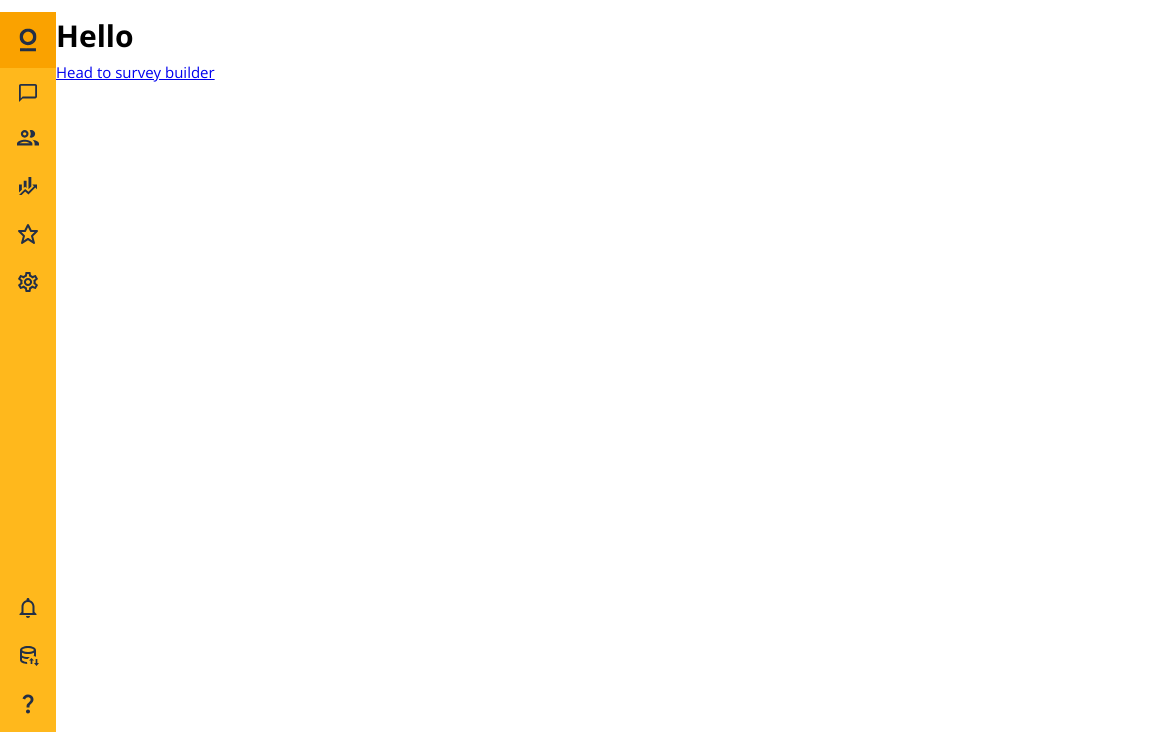
Home Page › selecting a row changes the background to yellow
The width and height of the screenshot is (1152, 732).
What coordinates should you click on to do the following:
click the link with id "linkToSurvey"
I would click on:
 (136, 72)
Its box is [56,60,215,84].
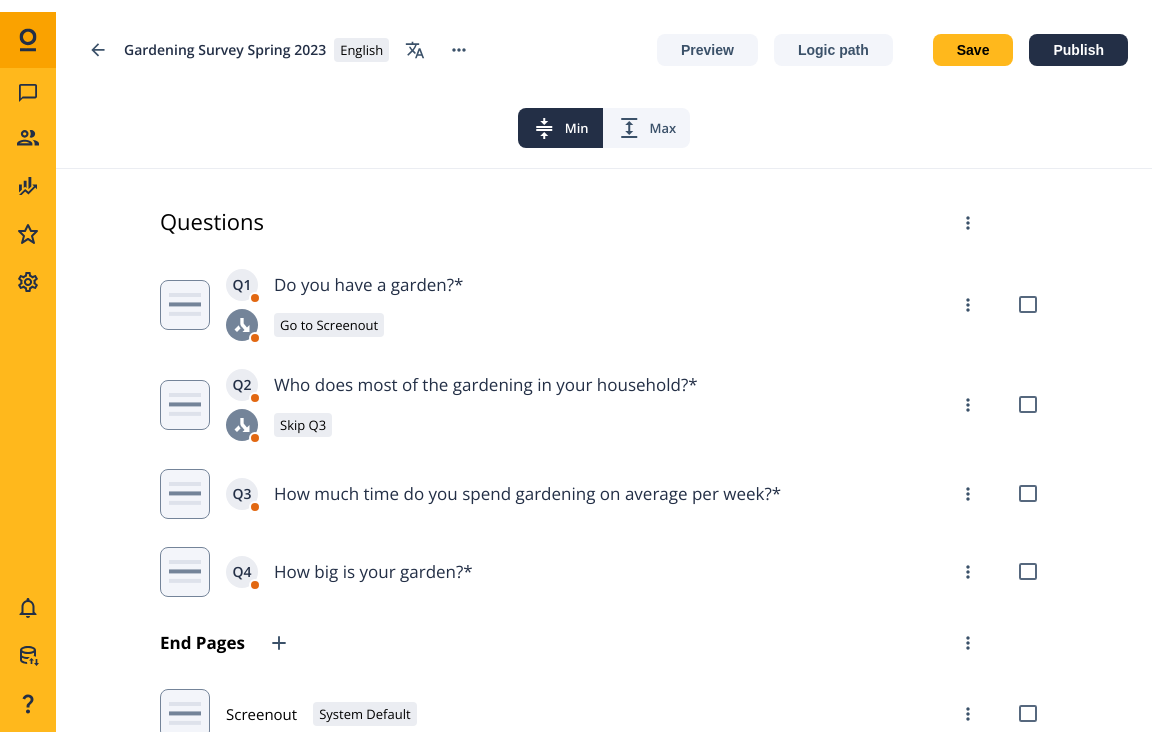
Expected: the heading "Questions" is shown, [160,206,264,236]
